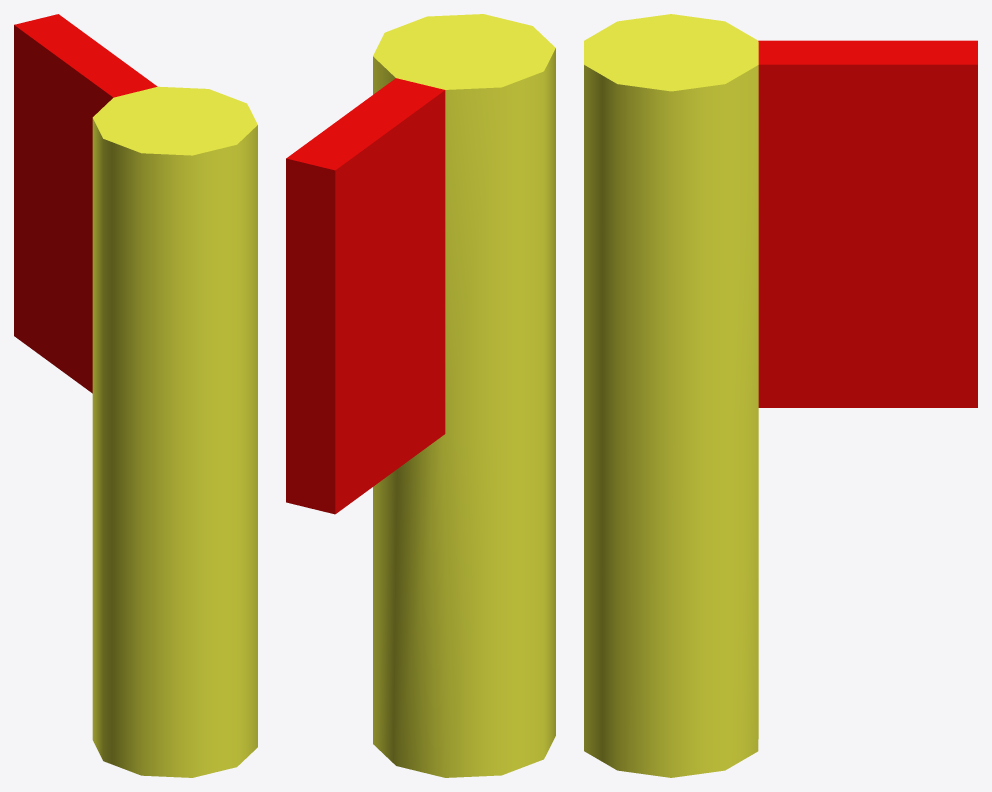
The model's file is RedFlag.FBX.
The picture shows the model from 3 angles, left to right: view 1: azimuth 30°, elevation 25°; view 2: azimuth 150°, elevation 25°; view 3: azimuth 270°, elevation 25°; orthographic projection. The views are drawn at different scales.
Parts seen in each view (by area): view 1: Cylinder001; view 2: Cylinder001; view 3: Cylinder001.
Boxes of the visible parts, bbox=[...] form: Cylinder001: bbox=[14, 14, 257, 777]; Cylinder001: bbox=[286, 14, 555, 777]; Cylinder001: bbox=[584, 14, 977, 777].
Size of the model in its own units: 1.67 by 6.9 by 3.59.
